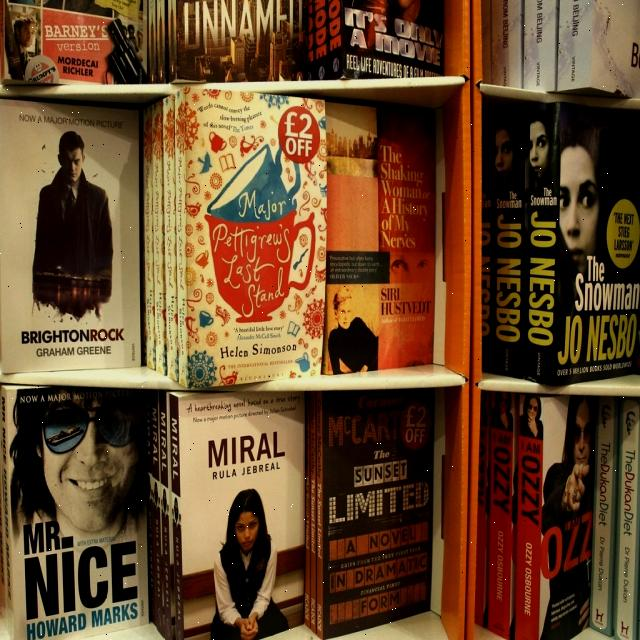book: (187, 90, 326, 392), (2, 102, 143, 376), (5, 387, 150, 639), (322, 389, 435, 638), (329, 102, 432, 373), (525, 105, 559, 380), (614, 394, 639, 639), (166, 394, 185, 637)
